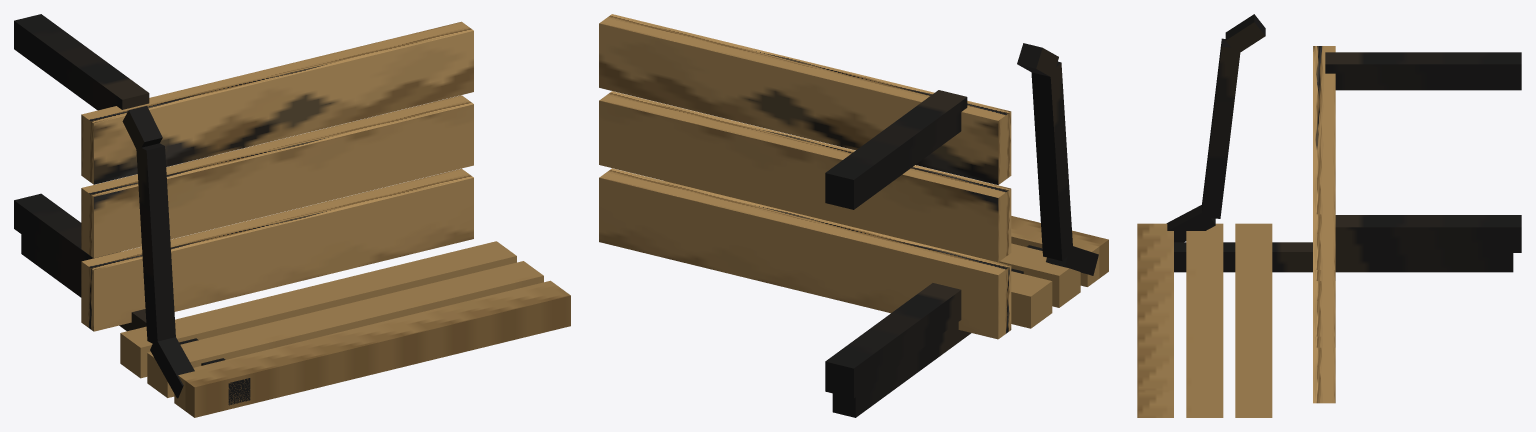
Rendered from pz_benche_seating_outdoor_01_fancy_outdoors_0_0.obj.
3 views of the same model, side by side, from view 1: azimuth 30°, elevation 25°; view 2: azimuth 150°, elevation 25°; view 3: azimuth 270°, elevation 25° (orthographic). The views are drawn at different scales.
Size of the model in its own units: 0.975 by 0.6391 by 0.9403.
1 material, 1 textured.
